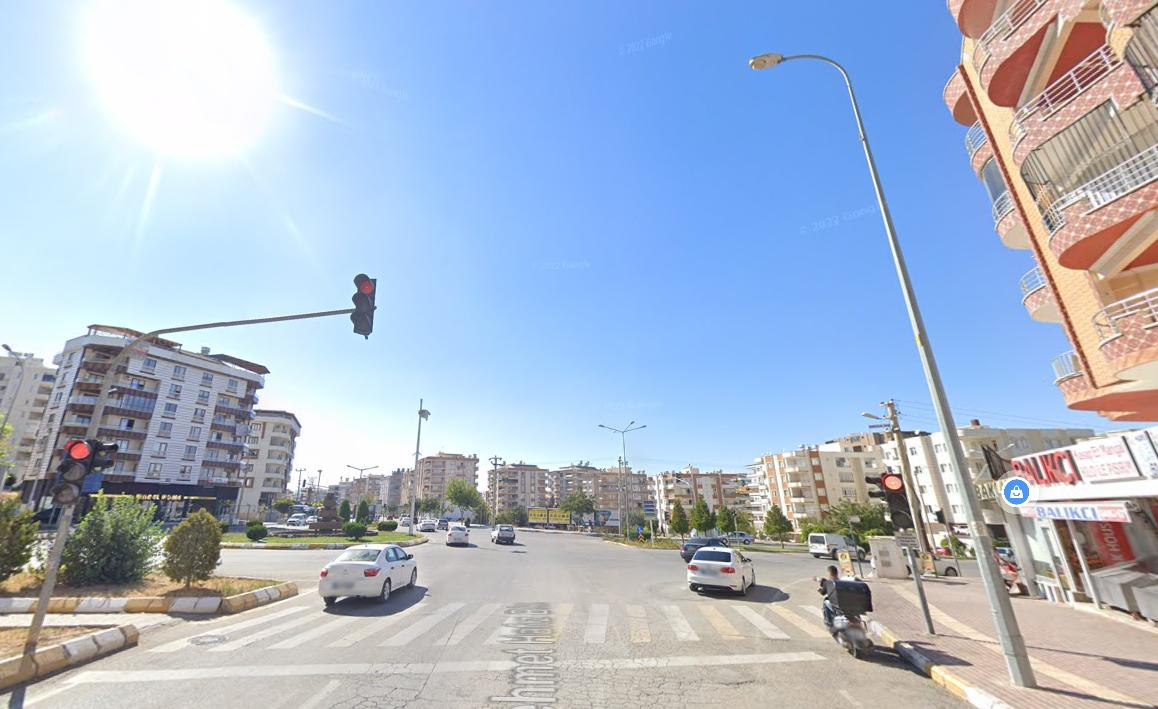redlight: (61, 435, 92, 498)
